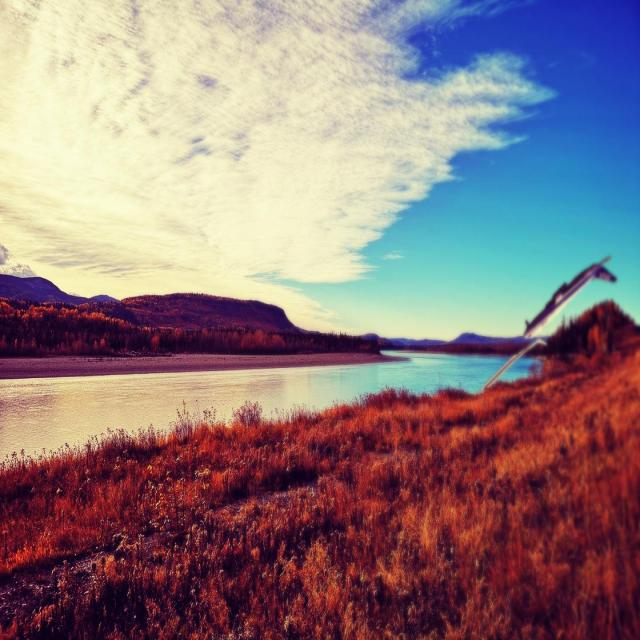airplane: (482, 253, 617, 392)
